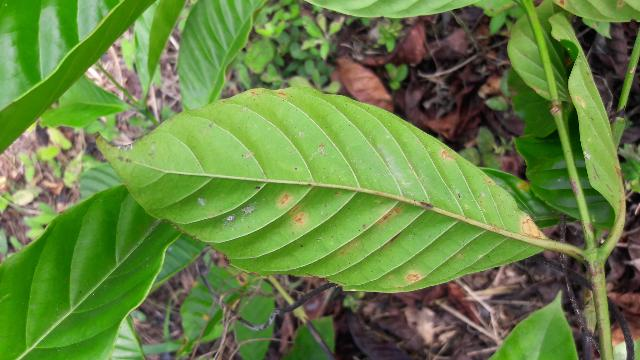rust_level_2: (96, 83, 559, 293)
